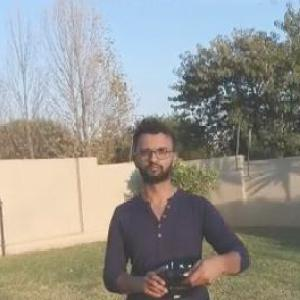follow: (96, 109, 254, 299)
